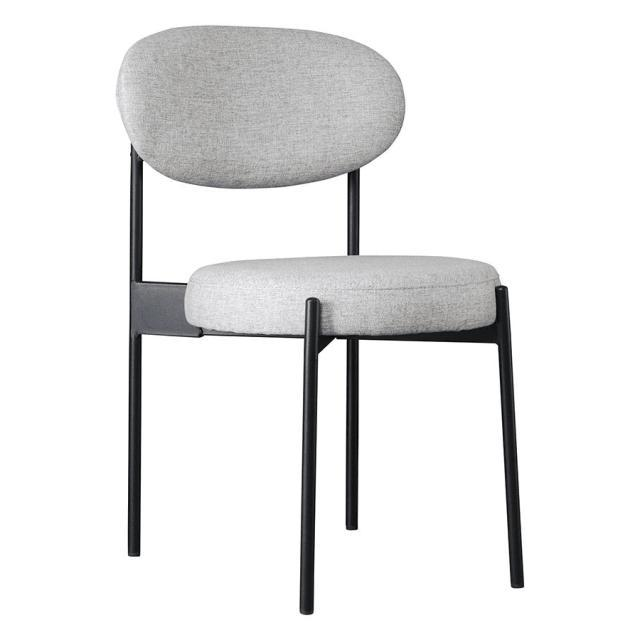chair: (112, 20, 528, 618), (122, 21, 516, 336)
